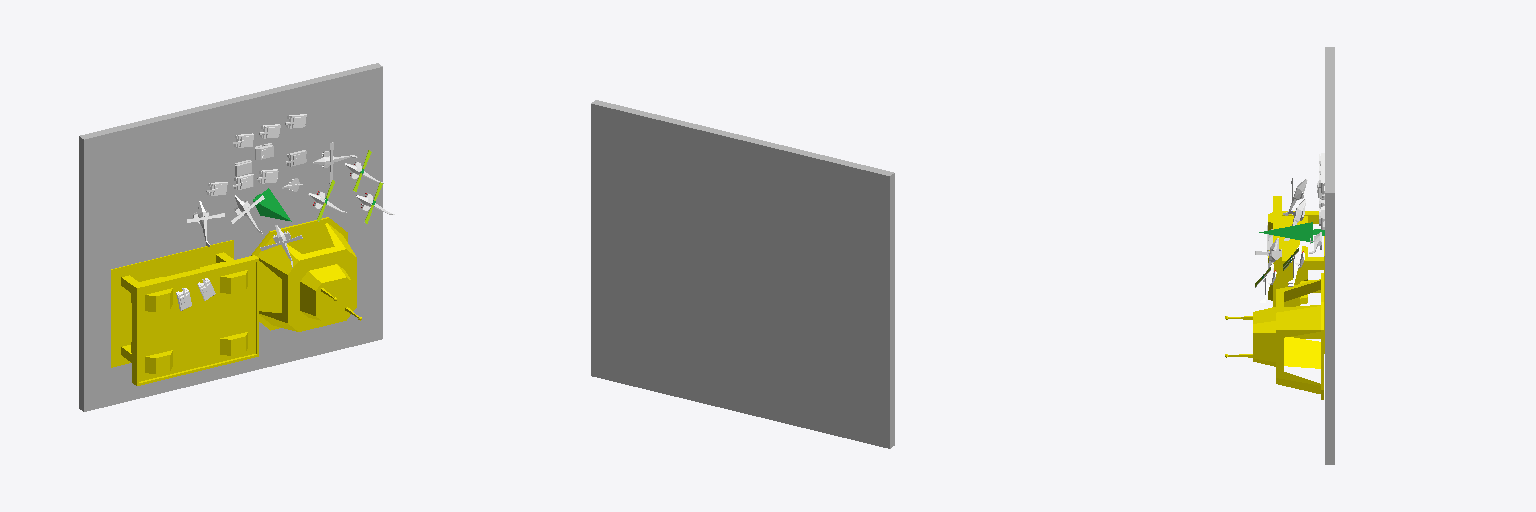
File: raic5_colored2.obj
The picture shows the model from 3 angles: view 1: azimuth 30°, elevation 25°; view 2: azimuth 150°, elevation 25°; view 3: azimuth 270°, elevation 25°; orthographic projection.
Visible parts, largest first — view 1: Object.19, Object.10, Object.4, Object.12; view 2: Object.19; view 3: Object.4, Object.19, Object.10, Object.12.
Boxes of the visible parts, <box> form: Object.19: <box>79,63,382,411</box>; Object.10: <box>111,240,258,385</box>; Object.4: <box>251,217,361,331</box>; Object.12: <box>253,188,291,221</box>; Object.19: <box>591,100,894,448</box>; Object.4: <box>1225,273,1323,399</box>; Object.19: <box>1325,47,1334,464</box>; Object.10: <box>1268,196,1324,353</box>; Object.12: <box>1259,222,1324,242</box>.
Size of the model in its own units: 1345 by 1172 by 431.